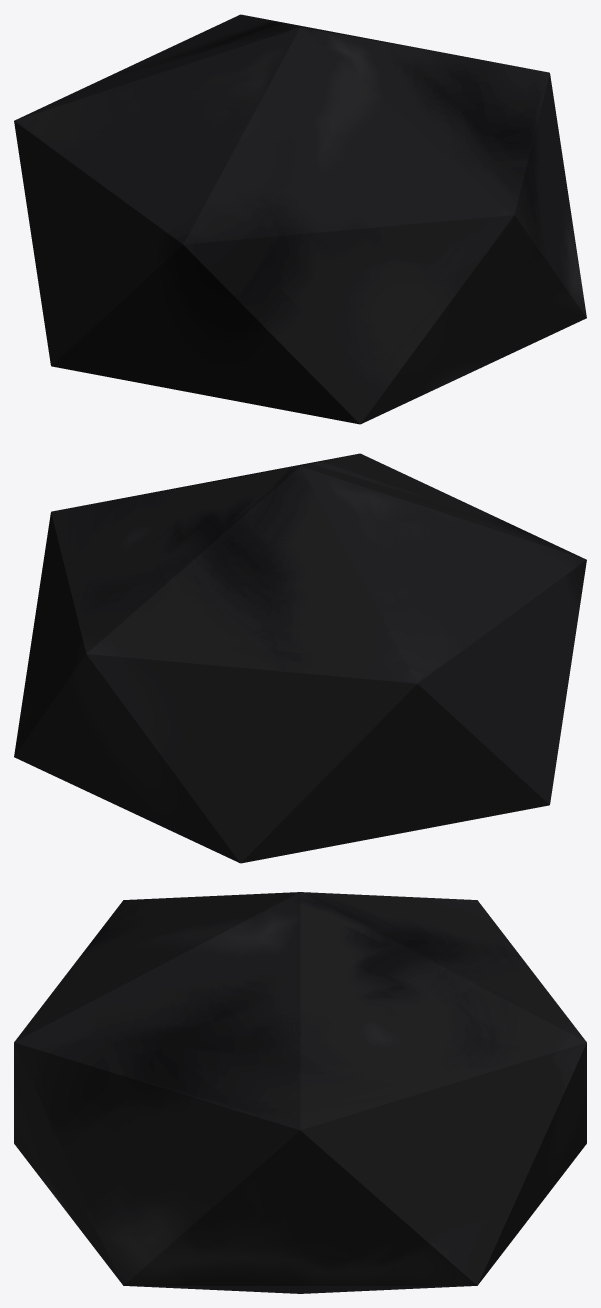
Rendered from Coal.fbx.
The picture shows the model from 3 angles, top to bottom: view 1: azimuth 30°, elevation 25°; view 2: azimuth 150°, elevation 25°; view 3: azimuth 270°, elevation 25°; orthographic projection. The views are drawn at different scales.
Parts seen in each view (by area): view 1: Icosphere; view 2: Icosphere; view 3: Icosphere.
Part boxes in pixels (x1,y1,x2,y2): Icosphere: (14, 14, 586, 424); Icosphere: (14, 453, 586, 863); Icosphere: (14, 892, 586, 1293).
Size of the model in its own units: 60.73 by 44.71 by 57.76.
Materials: 1 (1 with a texture image).
